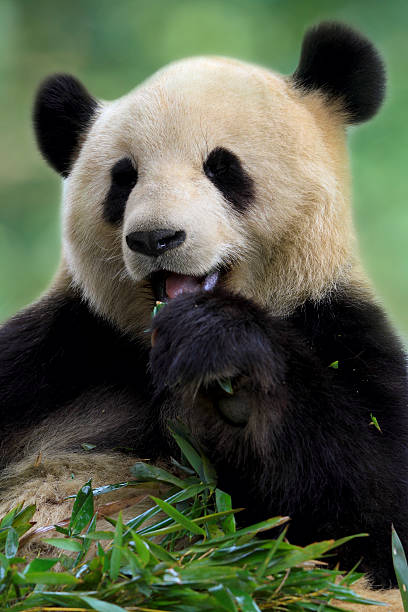panda: (19, 17, 398, 356)
